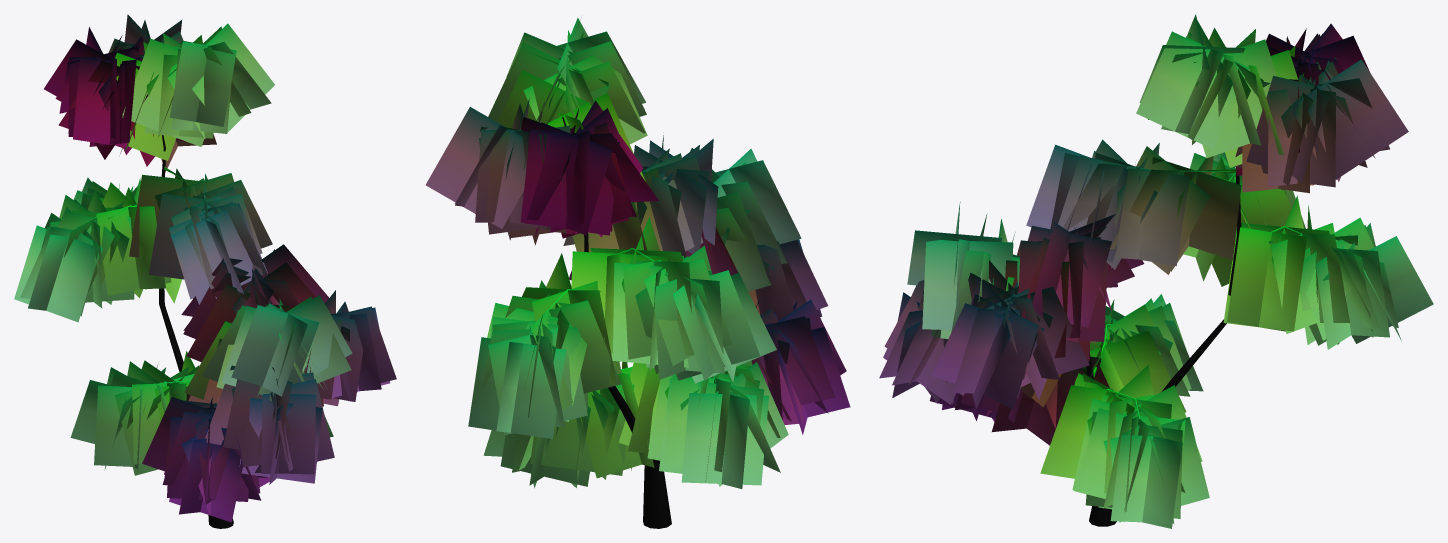
The model's file is URP_P13_Tree_7_LOD_2.fbx.
The picture shows the model from 3 angles, left to right: view 1: azimuth 30°, elevation 25°; view 2: azimuth 150°, elevation 25°; view 3: azimuth 270°, elevation 25°; orthographic projection. The views are drawn at different scales.
Parts seen in each view (by area): view 1: Tree_7_LOD_2; view 2: Tree_7_LOD_2; view 3: Tree_7_LOD_2.
Part boxes in pixels (x1=…): Tree_7_LOD_2: x1=14, y1=14, x2=396, y2=528; Tree_7_LOD_2: x1=425, y1=17, x2=850, y2=528; Tree_7_LOD_2: x1=879, y1=14, x2=1433, y2=528.
Size of the model in its own units: 407 by 658 by 651.
